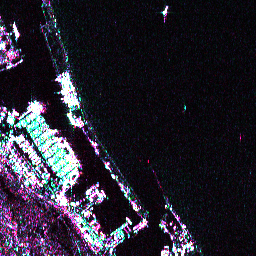ship: (8, 20, 22, 40), (160, 2, 170, 17), (124, 214, 134, 227)
